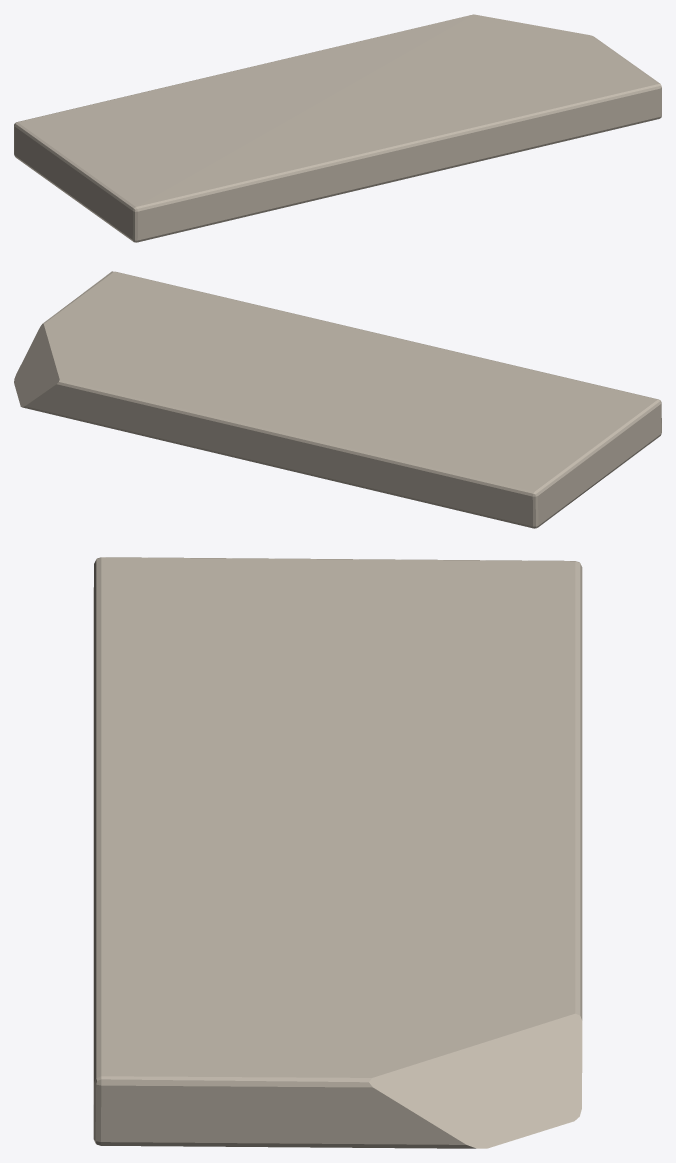
Rendered from street_slab_chipped.fbx.
The picture shows the model from 3 angles, top to bottom: view 1: azimuth 30°, elevation 25°; view 2: azimuth 150°, elevation 25°; view 3: azimuth 270°, elevation 25°; orthographic projection. The views are drawn at different scales.
Parts seen in each view (by area): view 1: Street_Slab_Chipped; view 2: Street_Slab_Chipped; view 3: Street_Slab_Chipped.
Boxes of the visible parts, box(x1,y1,x2,y2) form: Street_Slab_Chipped: box(14, 14, 661, 242); Street_Slab_Chipped: box(14, 271, 661, 528); Street_Slab_Chipped: box(93, 557, 582, 1148).
Bounding box in the file's own units: 250 × 18.48 × 100.
